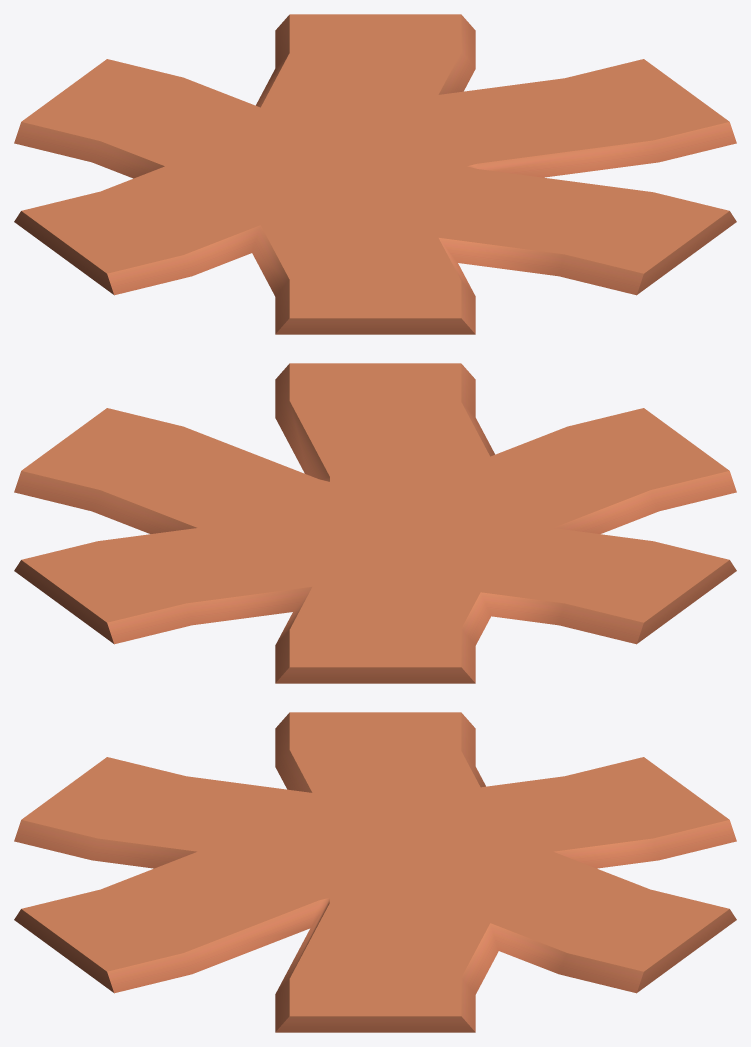
File: kenney-hexagon-path-crossing.glb
The picture shows the model from 3 angles, top to bottom: view 1: azimuth 30°, elevation 25°; view 2: azimuth 150°, elevation 25°; view 3: azimuth 270°, elevation 25°; orthographic projection.
Visible parts, largest first — view 1: path_crossing; view 2: path_crossing; view 3: path_crossing.
Boxes of the visible parts, left/top/right/bottom form: path_crossing: left=14, top=14, right=736, bottom=334; path_crossing: left=14, top=363, right=736, bottom=683; path_crossing: left=14, top=712, right=736, bottom=1032.
Bounding box in the file's own units: 1 × 0.025 × 1.01.
Materials: 1 (1 with a texture image).
